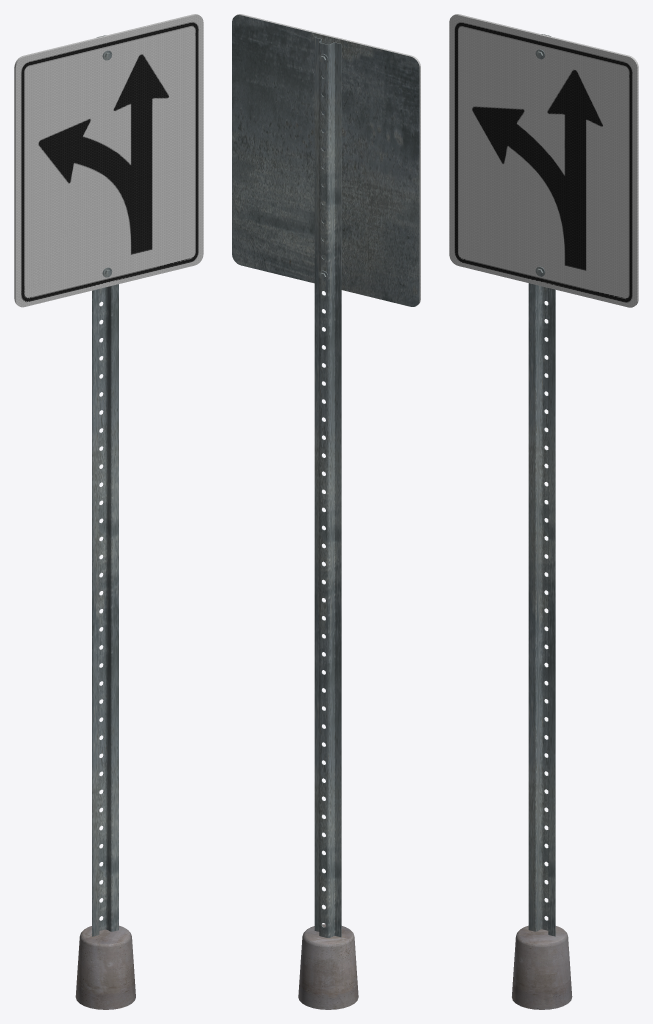
Rendered from leftstraightonly_nsoc.obj.
3 views of the same model, side by side, from view 1: azimuth 30°, elevation 25°; view 2: azimuth 150°, elevation 25°; view 3: azimuth 330°, elevation 25° (orthographic).
Parts seen in each view (by area): view 1: sign_arrows_7; view 2: sign_arrows_7; view 3: sign_arrows_7.
Part boxes in pixels (box(x1,y1,x2,y2)): sign_arrows_7: box(14, 14, 203, 1009); sign_arrows_7: box(232, 14, 420, 1009); sign_arrows_7: box(449, 14, 638, 1009).
Size of the model in its own units: 21 by 103 by 5.84.
3 materials, 3 textured.
